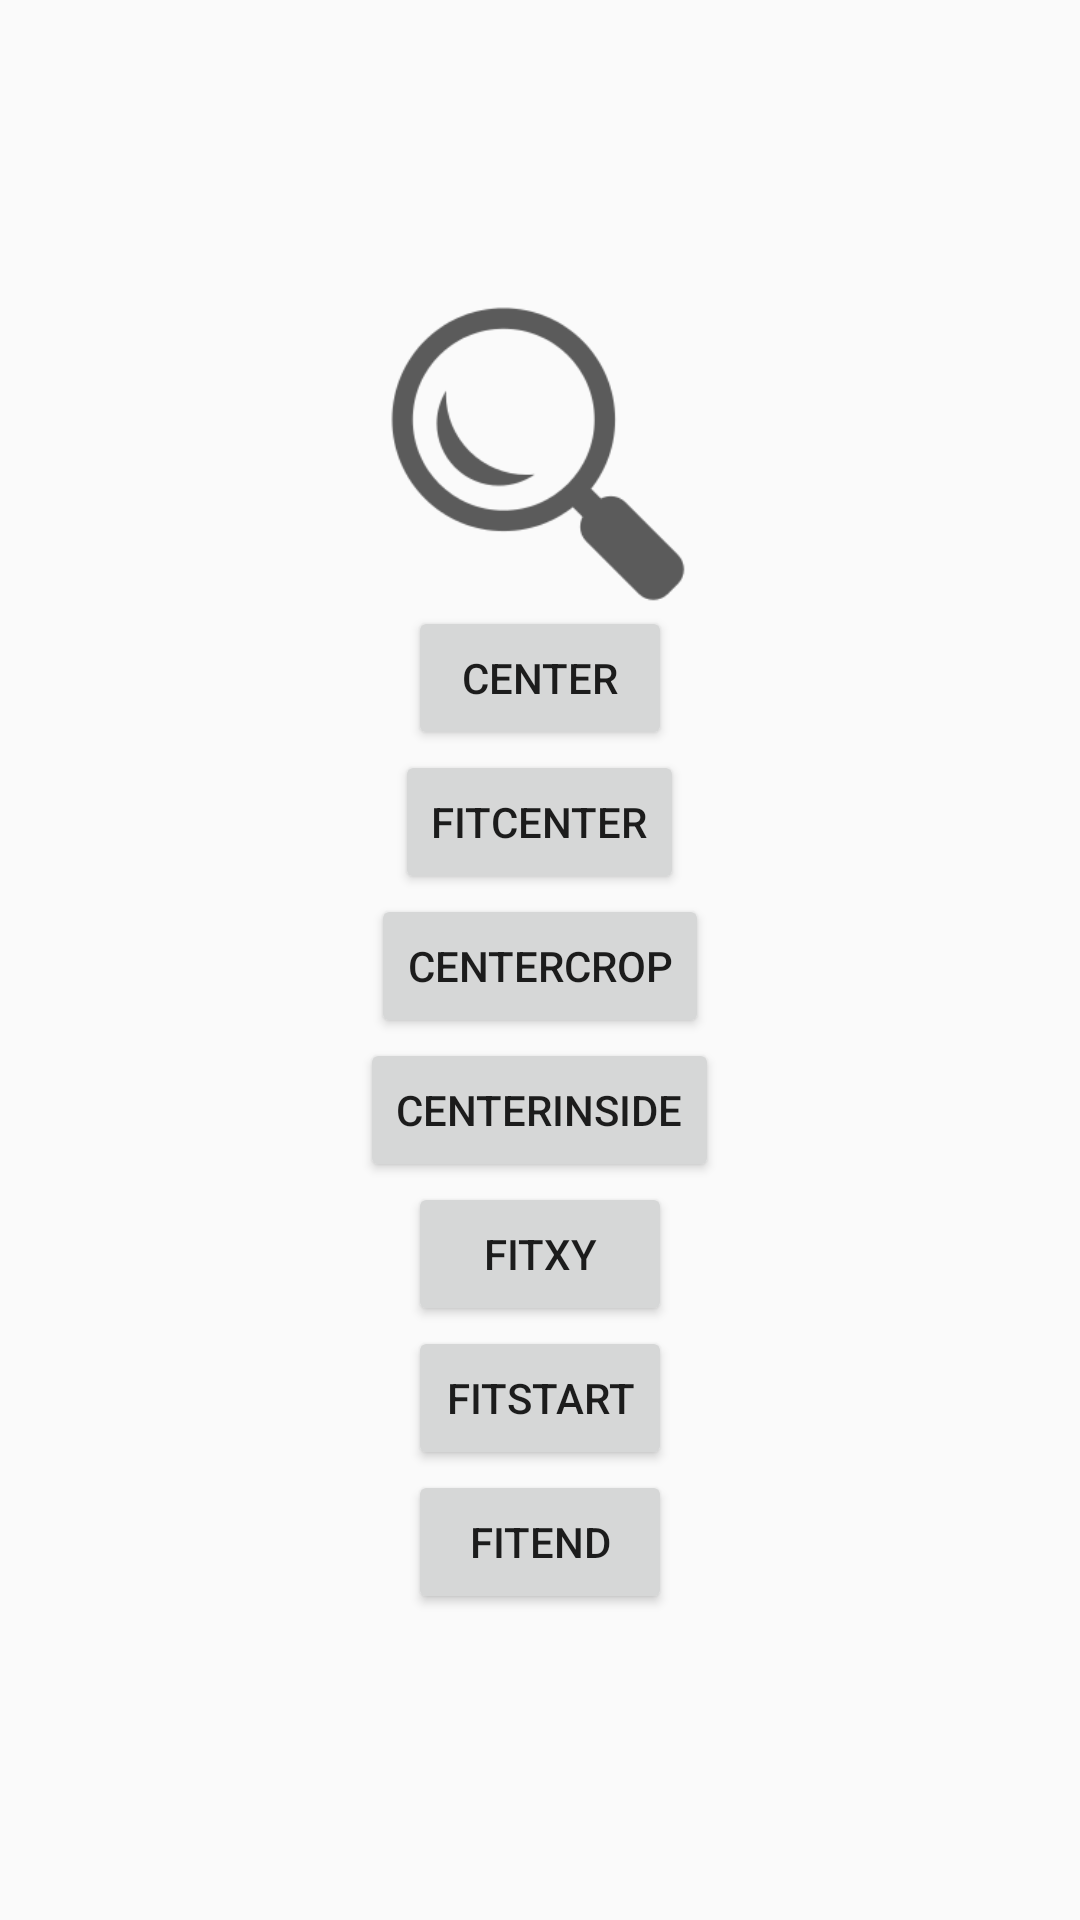

Icons on this 1080 x 1920 Android screen, each with the point to tap as (x,y):
search: (538,454)
